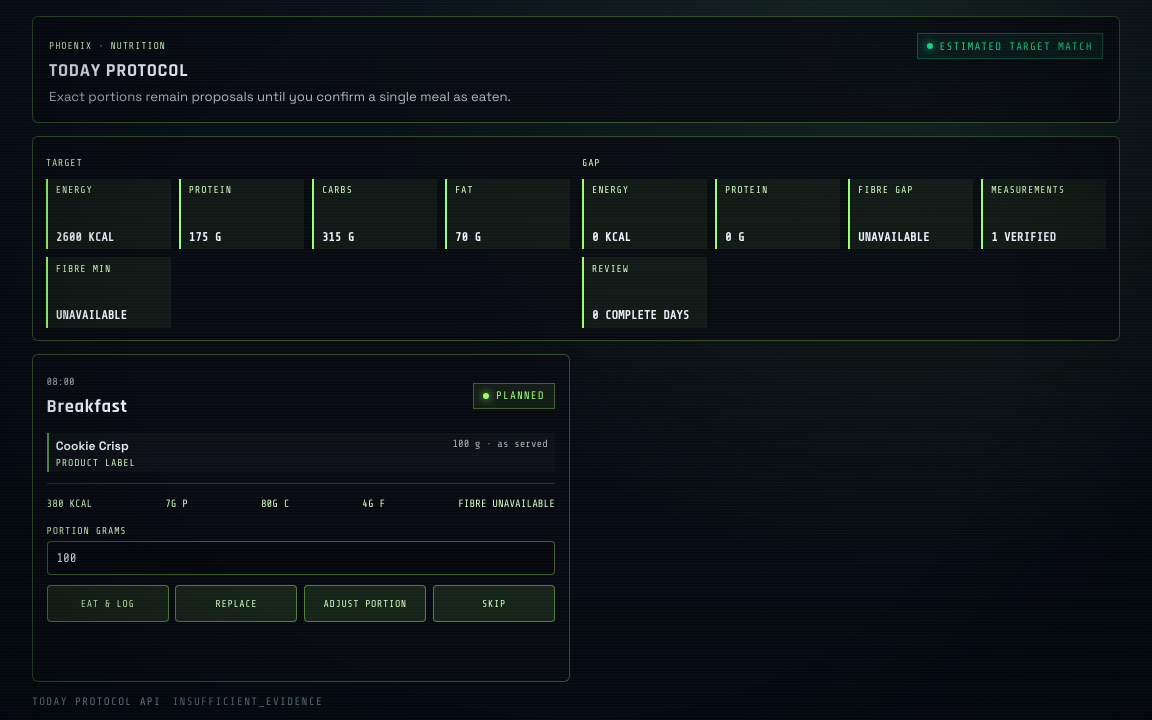
Scenario: TodayProtocol command boundary › shows the stale refresh state and retains entered grams after a 409
Replace the text in the number field named "Adjust Cookie Crisp grams" with "125" at (301, 558), box [47,541,555,575]
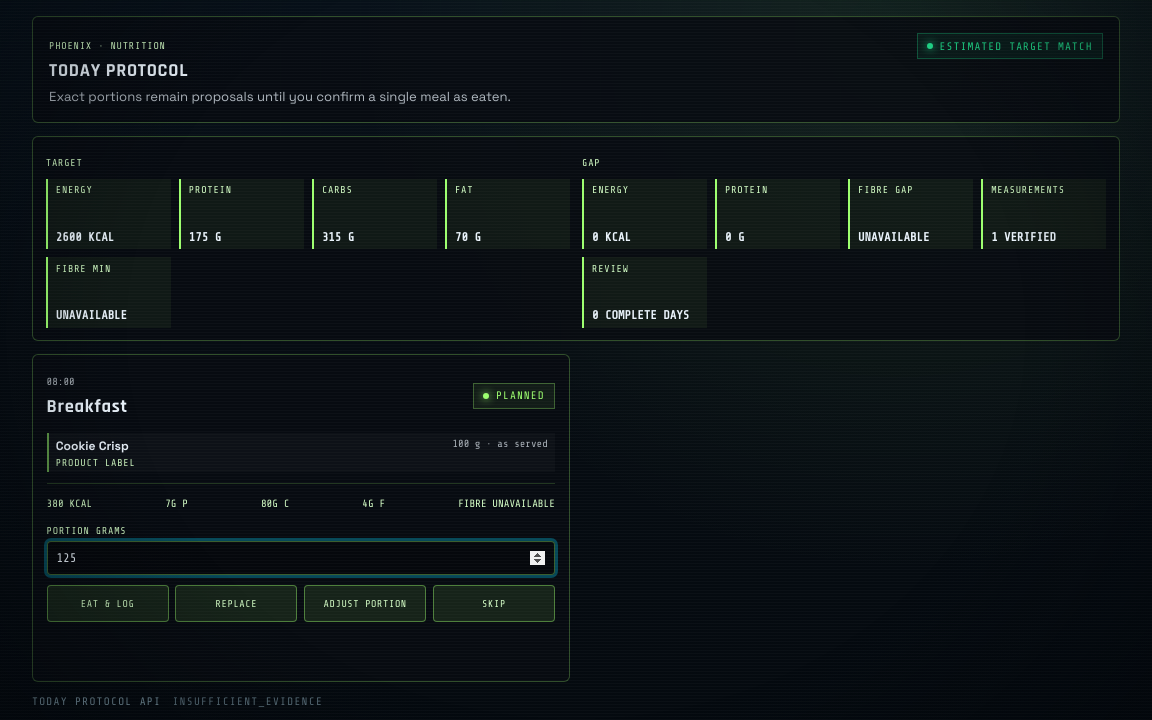
Click the button "ADJUST PORTION".
click(365, 604)  # box [304,585,426,622]
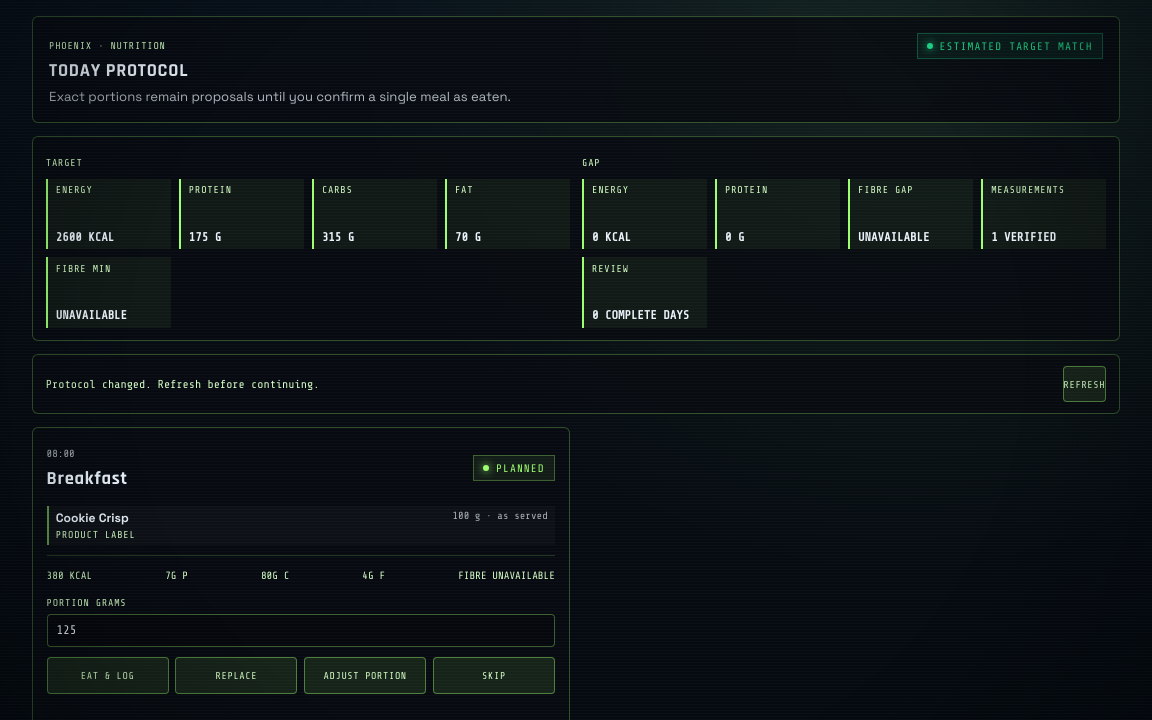
Expected: the text "Protocol changed. Refresh before continuing." is shown, [46,378,319,390]
Expected: the button "REFRESH" is shown, [1063,366,1106,402]
